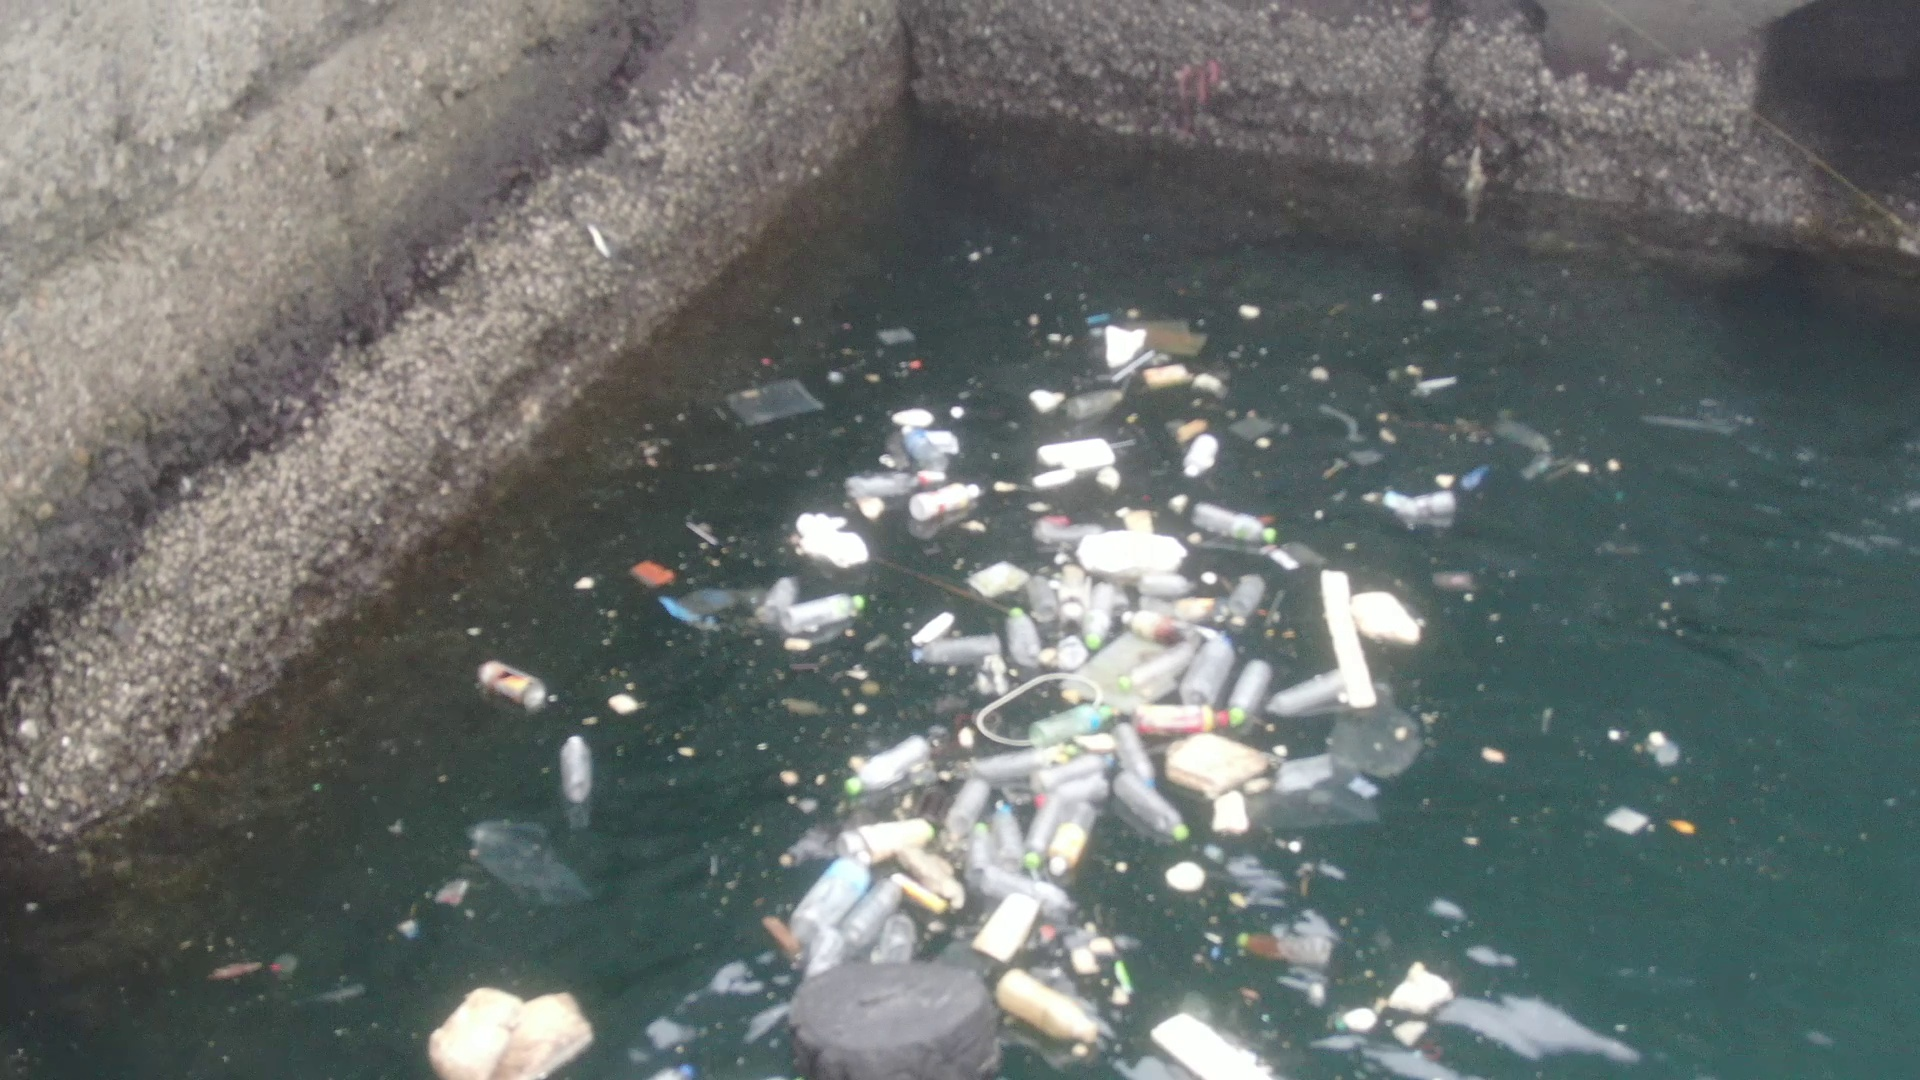bottle: (998, 957, 1120, 1060), (471, 638, 560, 724), (795, 851, 876, 944), (899, 626, 1021, 680), (782, 579, 873, 640), (554, 717, 605, 822), (1023, 793, 1077, 880), (1058, 793, 1105, 880), (907, 479, 1002, 518), (1002, 604, 1046, 683)
garbage: (644, 360, 1516, 865), (377, 736, 1561, 1080), (720, 277, 1473, 727)
